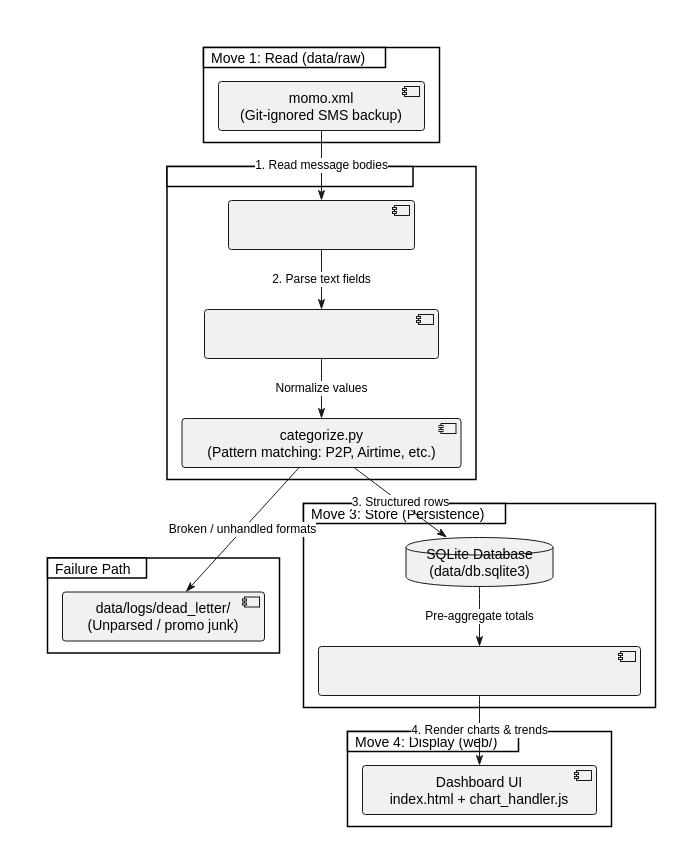
The diagram is 673 pixels wide and 844 high, and some of its shapes have lost their labels. Each missing label, with the box of its shape:
clean_normalize.py (Dates, RWF amounts, phones): (204, 308, 438, 358)
data/processed/dashboard.json (Aggregates: monthly totals, top recipients): (318, 646, 640, 696)
Move 2: Extract & Transform (etl/): (166, 165, 413, 187)
parse_xml.py (Loops over body text): (228, 200, 414, 250)
